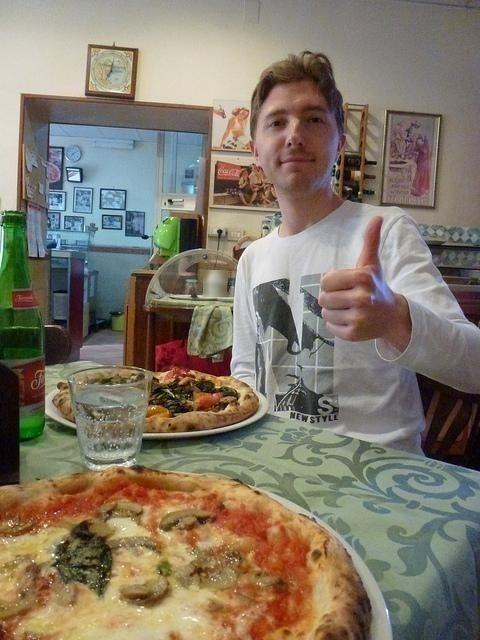bottle-glass: (1, 211, 48, 442)
glass-normal: (67, 364, 150, 471)
